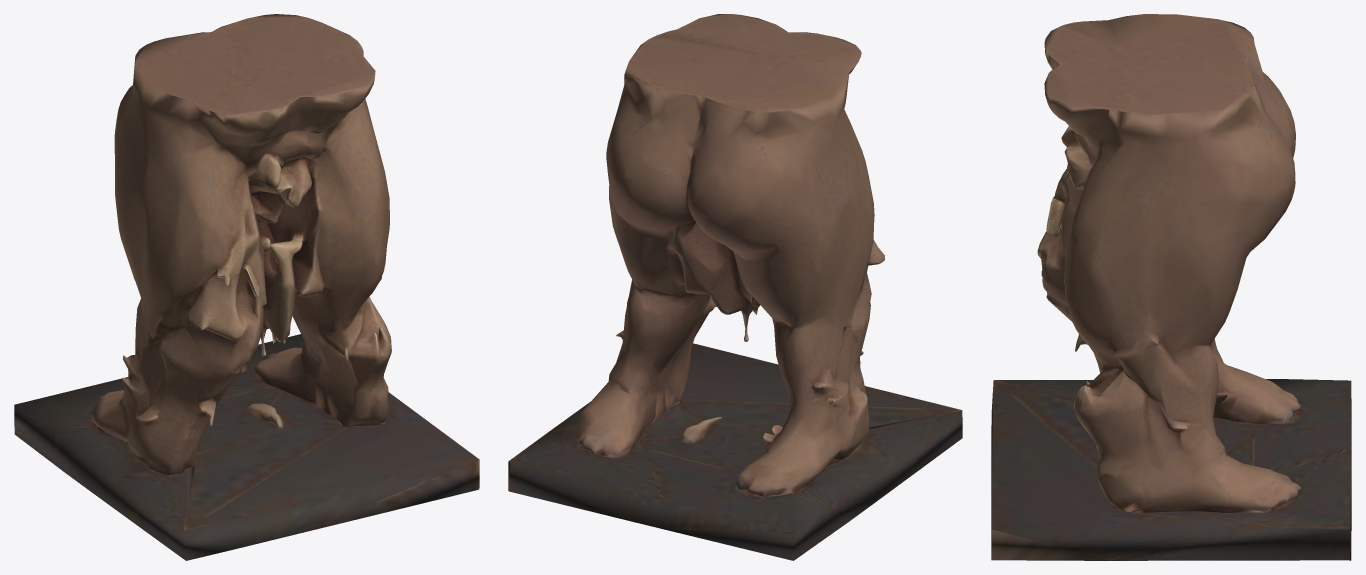
Rendered from thigh.glb.
3 views of the same model, side by side, from view 1: azimuth 30°, elevation 25°; view 2: azimuth 150°, elevation 25°; view 3: azimuth 270°, elevation 25° (orthographic). The views are drawn at different scales.
Parts seen in each view (by area): view 1: Mesh_0; view 2: Mesh_0; view 3: Mesh_0.
Part boxes in pixels (bbox=[...]): Mesh_0: bbox=[14, 14, 479, 560]; Mesh_0: bbox=[508, 14, 962, 560]; Mesh_0: bbox=[991, 14, 1351, 560].
Bounding box in the file's own units: 1.45 × 1.9 × 1.47.
Materials: 1 (1 with a texture image).
